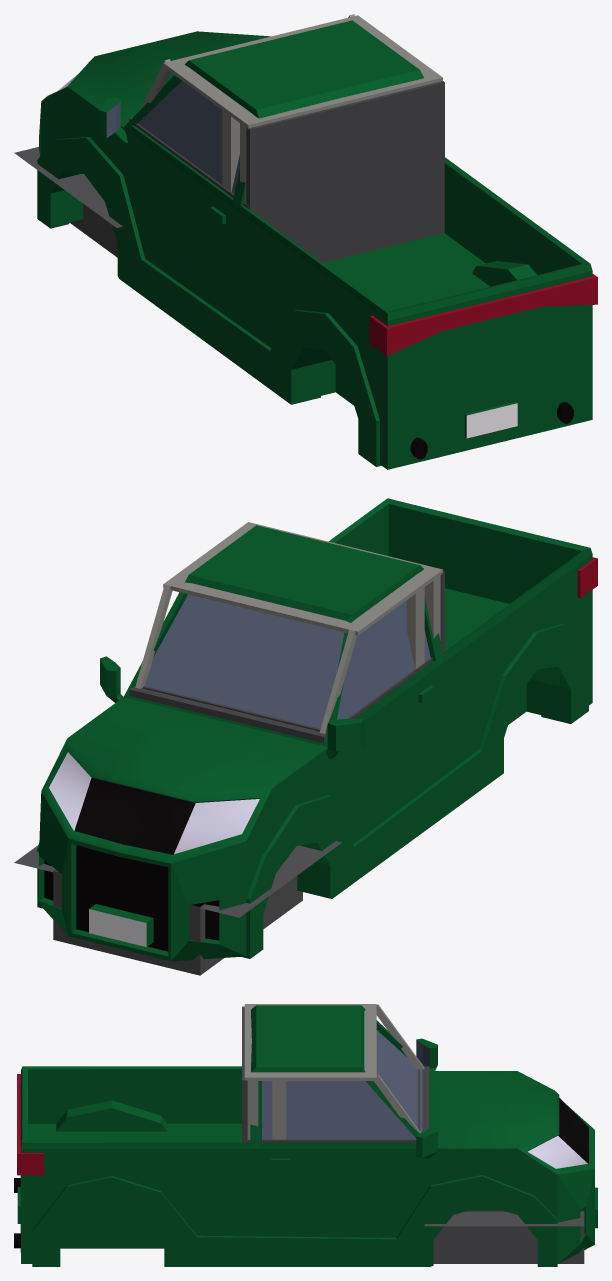
Rendered from pickup.glb.
3 views of the same model, one above another, from view 1: azimuth 30°, elevation 25°; view 2: azimuth 150°, elevation 25°; view 3: azimuth 270°, elevation 25° (orthographic). The views are drawn at different scales.
Parts seen in each view (by area): view 1: body, interior, hood, bay; view 2: body, hood, interior, bay; view 3: body, hood, interior, bay.
Part boxes in pixels (box(x1,y1,x2,y2)): body: box(37, 20, 597, 469); interior: box(129, 14, 444, 262); hood: box(42, 31, 270, 175); bay: box(14, 147, 122, 257); body: box(37, 498, 597, 961); hood: box(37, 694, 331, 899); interior: box(129, 522, 444, 743); bay: box(14, 841, 341, 975); body: box(14, 1005, 597, 1266); hood: box(429, 1068, 594, 1220); interior: box(242, 1004, 429, 1142); bay: box(424, 1210, 584, 1263).
Size of the model in its own units: 2.05 by 1.93 by 5.1.
